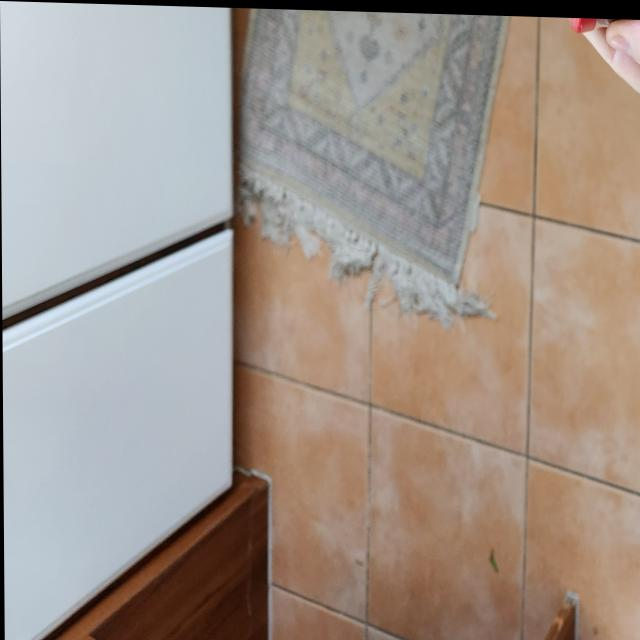hoison sauce: (549, 13, 640, 25)
